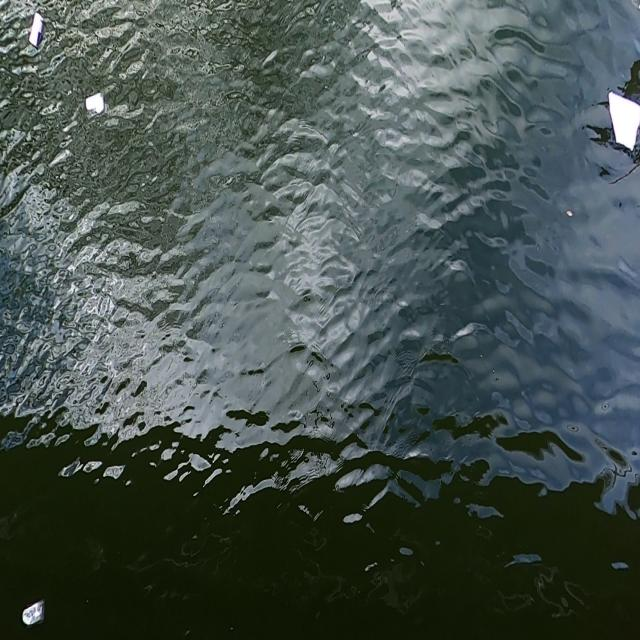Autre plastique: (601, 88, 640, 161)
Non plastique: (26, 10, 46, 51)
